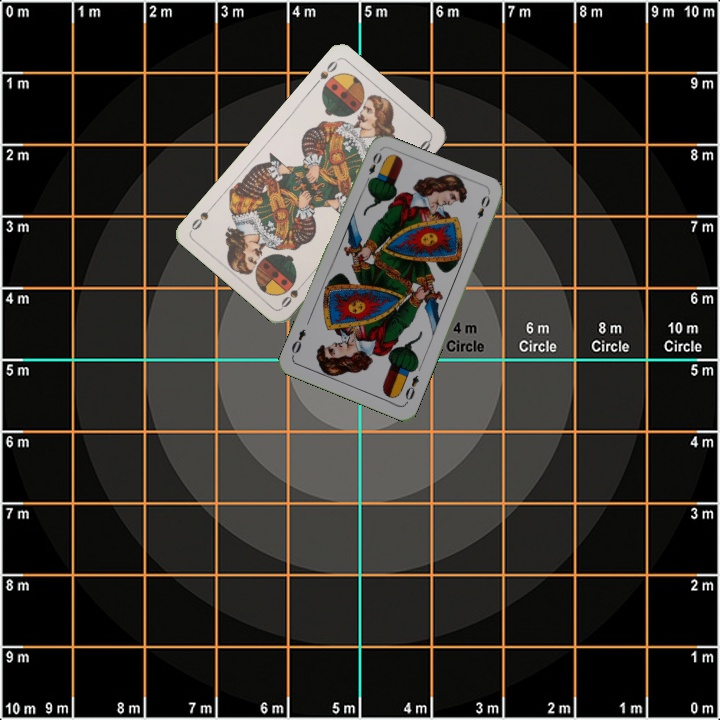EO: (361, 148, 384, 187), (401, 371, 421, 406)
SO: (277, 277, 308, 310), (310, 57, 340, 89)
